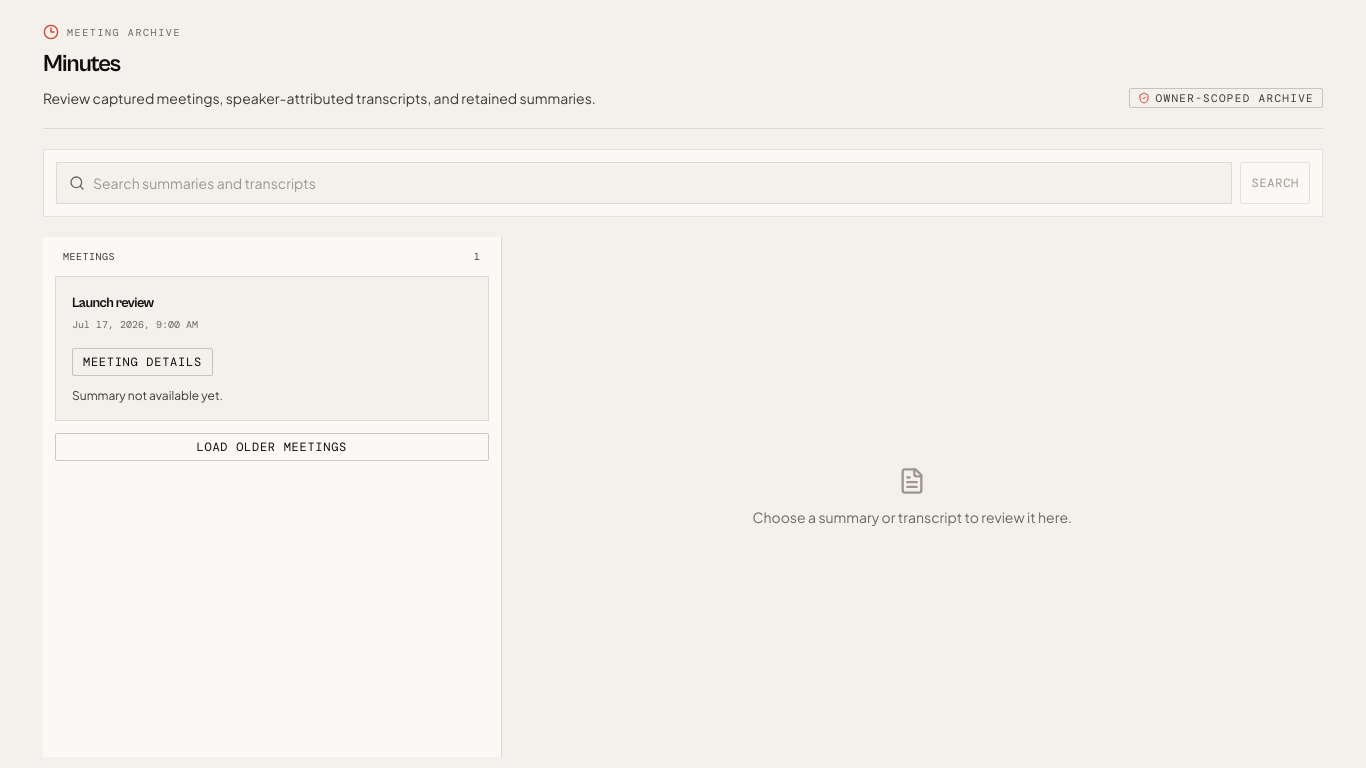
Test case: MinutesPage read surface › continues a truncated archive without hiding a partial older meeting
Click the button "Load older meetings" at [272, 447], box [55,433,489,461]
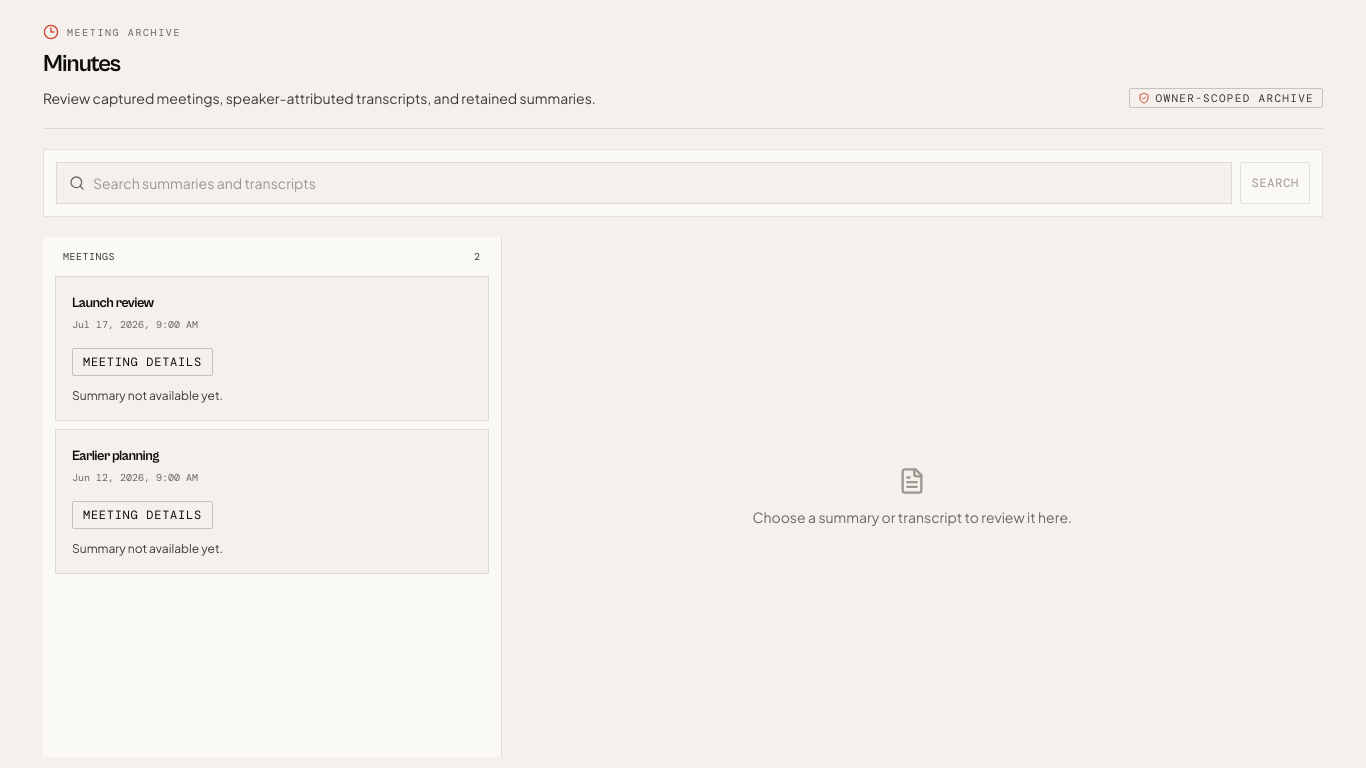
Check: the heading "Earlier planning" is shown, box [72,448,159,464]
Check: the text "Summary not available yet." is shown 2 times, box [72,388,223,403]; [72,541,223,556]
